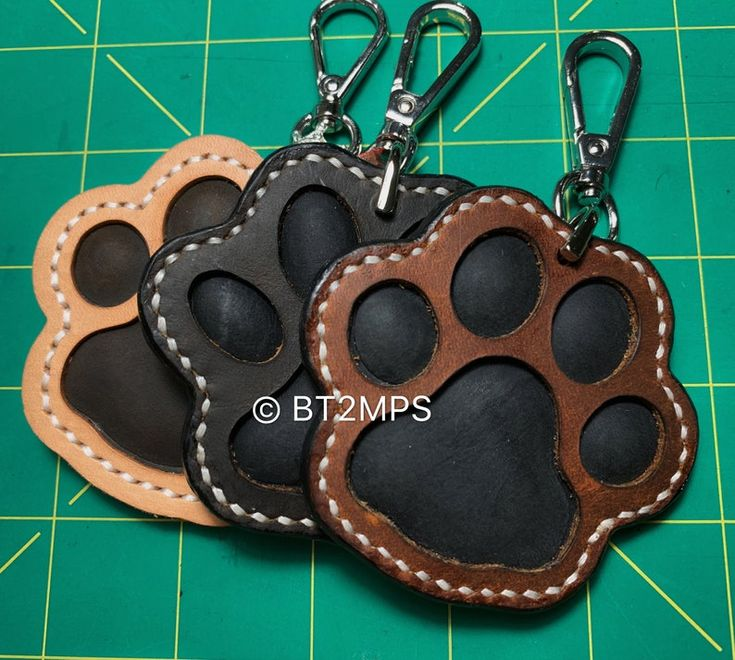cuero: (21, 133, 699, 609)
